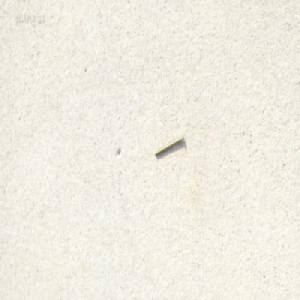Bolt: (153, 132, 184, 157)
